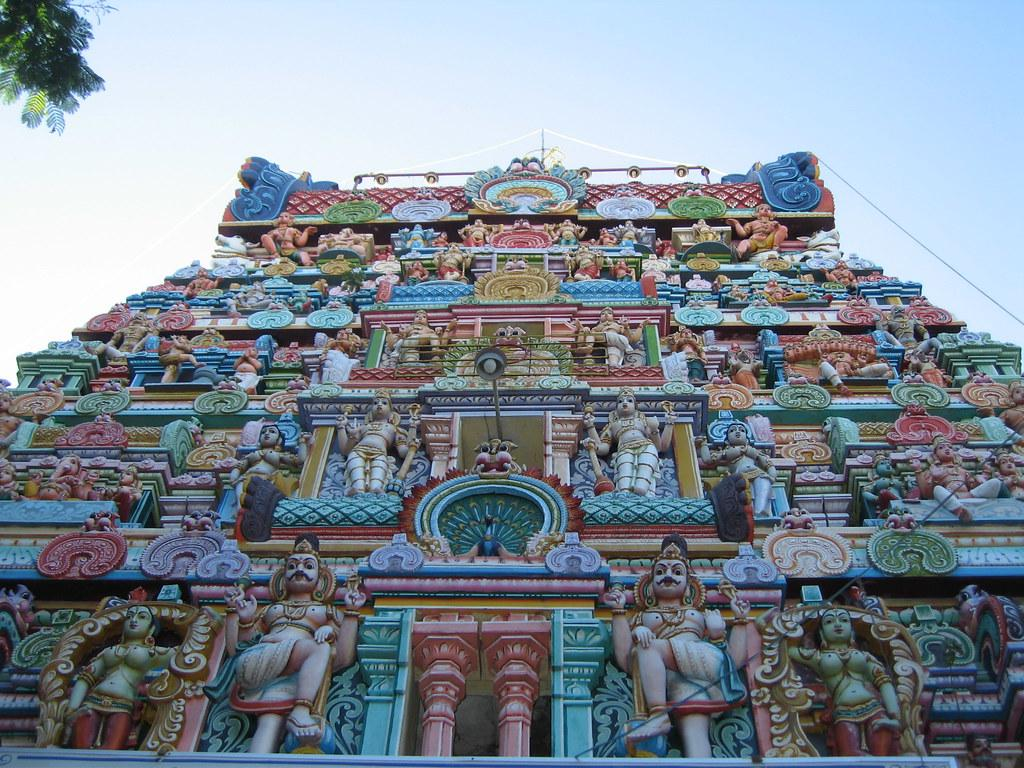temple: (2, 133, 1023, 762)
